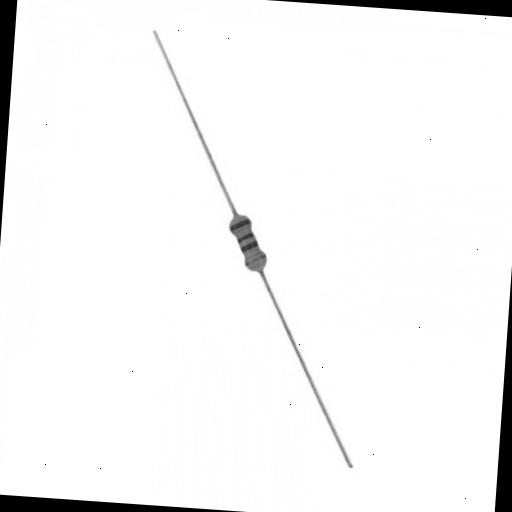RESISTOR: (152, 166, 352, 328)
